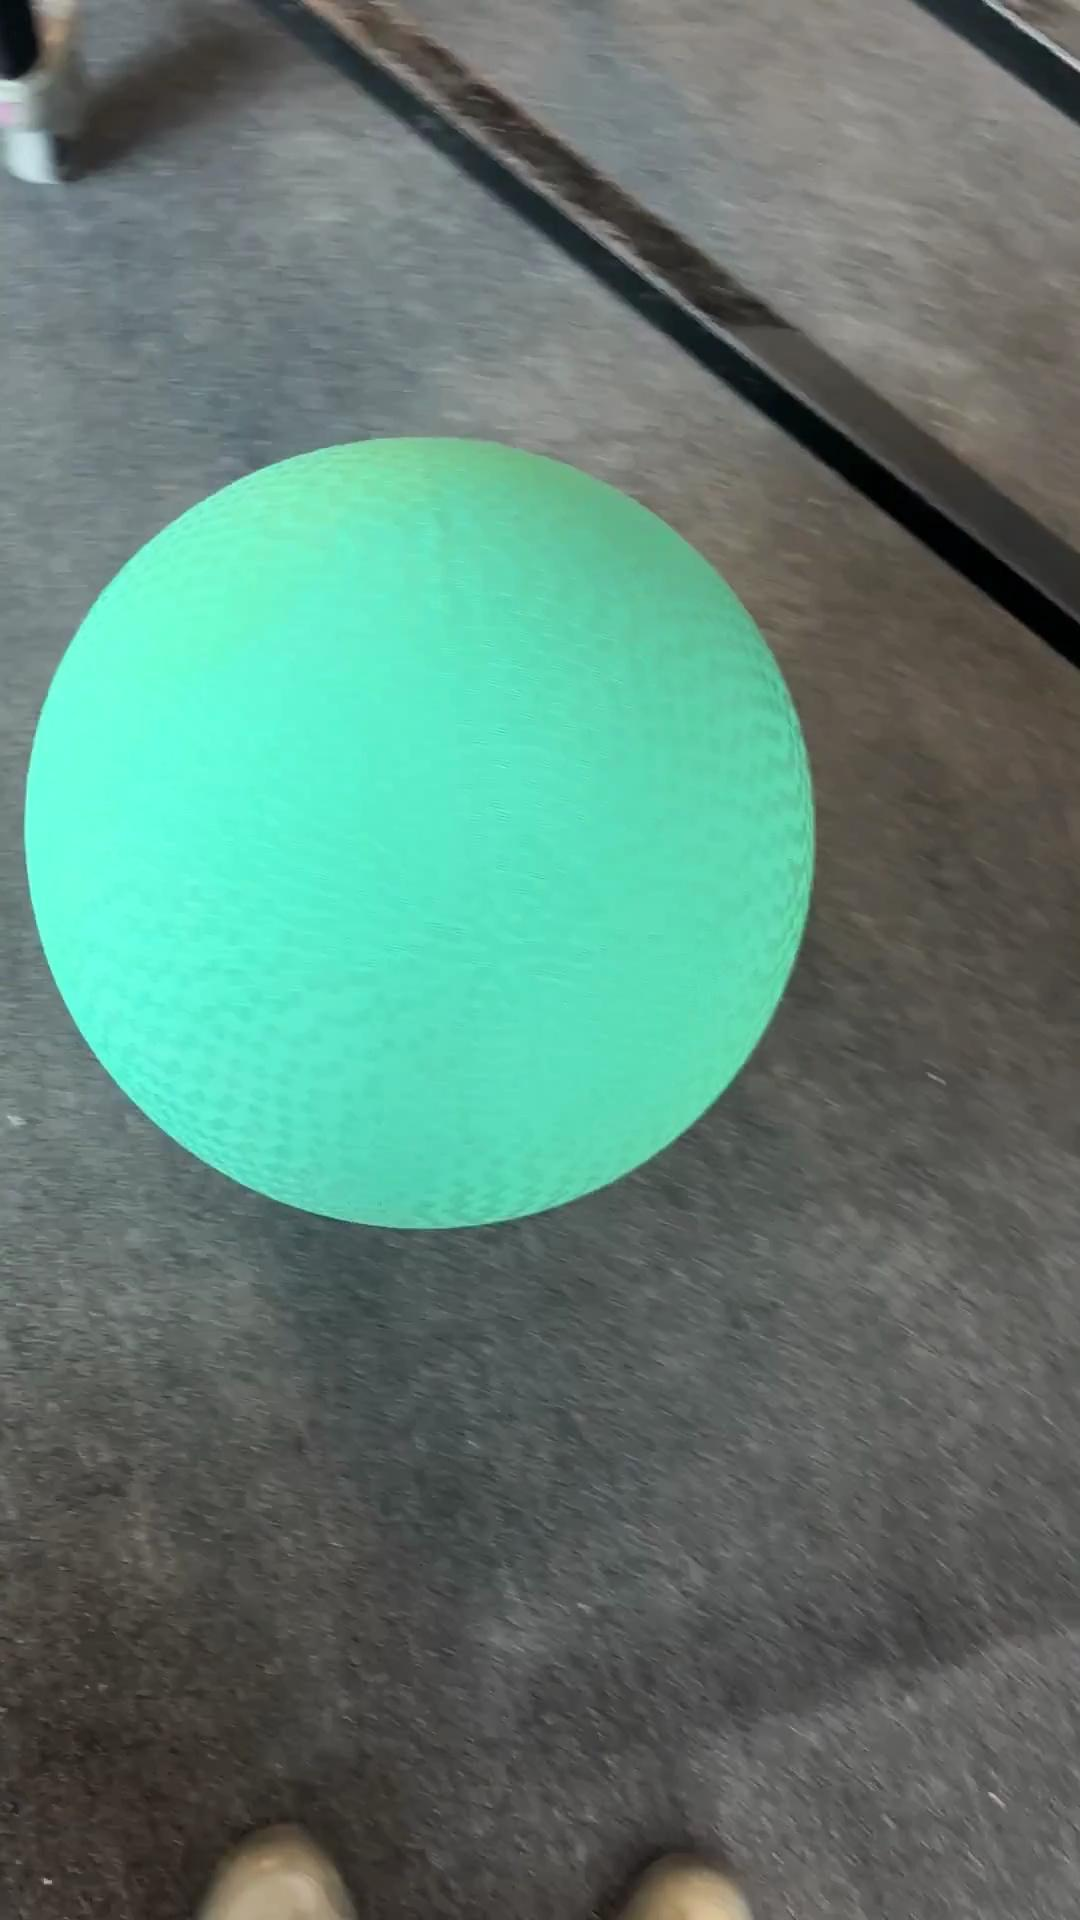ALGAE: (21, 433, 818, 1233)
